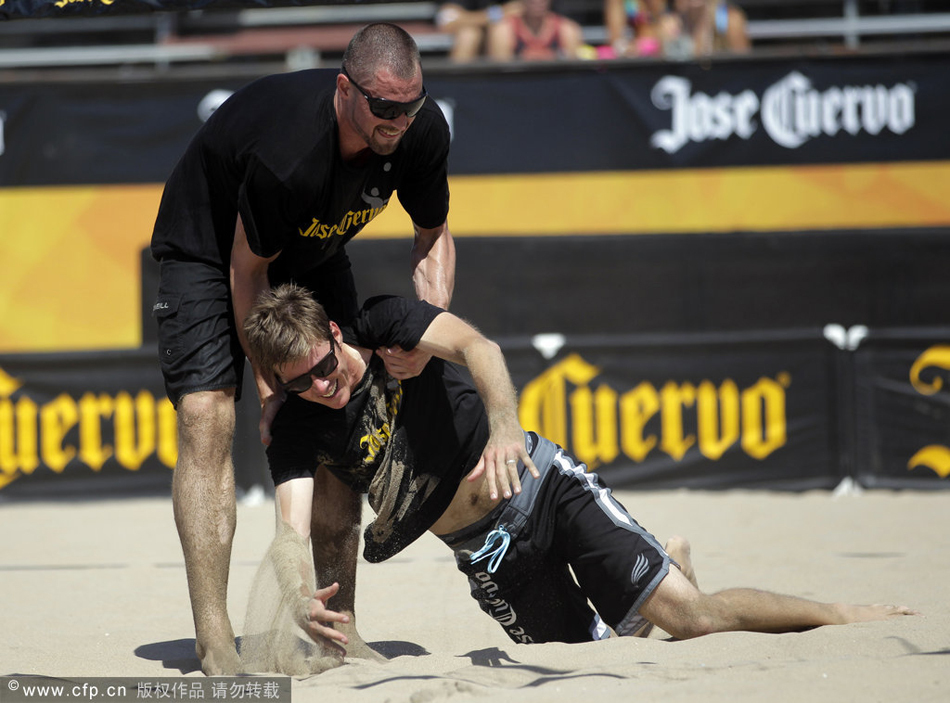fall: (230, 265, 922, 667)
